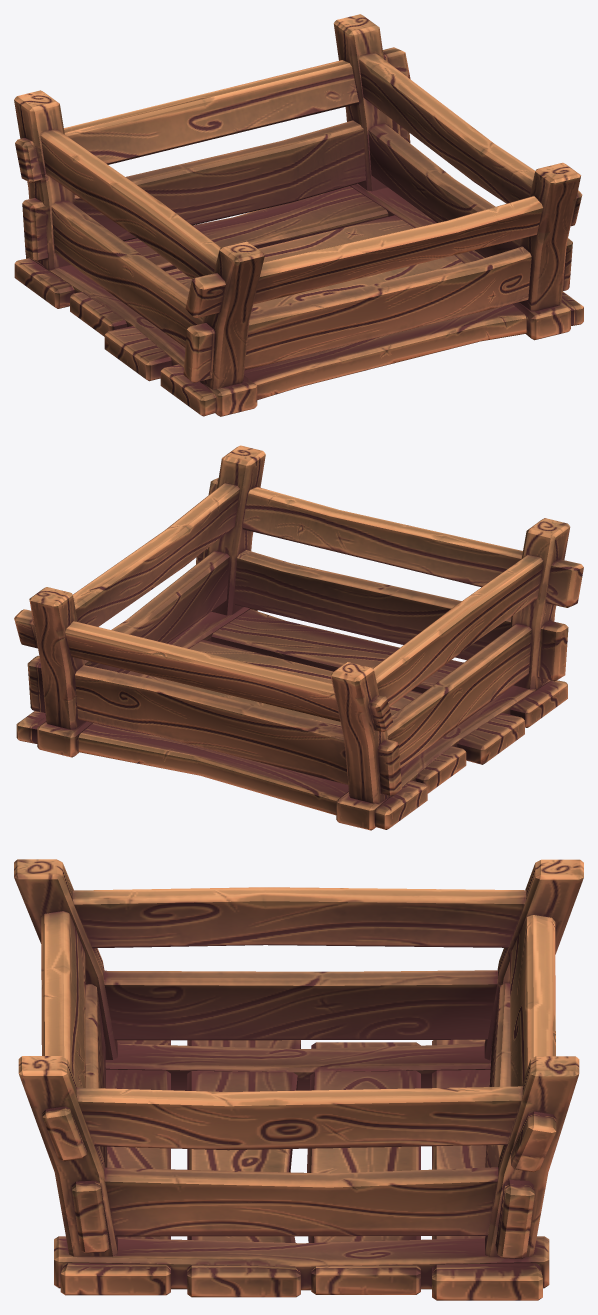
The model's file is kasa_domates.fbx.
3 renders of one model, top to bottom at view 1: azimuth 30°, elevation 25°; view 2: azimuth 150°, elevation 25°; view 3: azimuth 270°, elevation 25°, orthographic. The views are drawn at different scales.
Visible parts, largest first — view 1: kasa_domates; view 2: kasa_domates; view 3: kasa_domates.
Boxes of the visible parts, box(x1,y1,x2,y2) form: kasa_domates: box(14, 14, 583, 416); kasa_domates: box(14, 445, 583, 830); kasa_domates: box(14, 859, 583, 1300).
Size of the model in its own units: 94.19 by 38.1 by 91.54.
